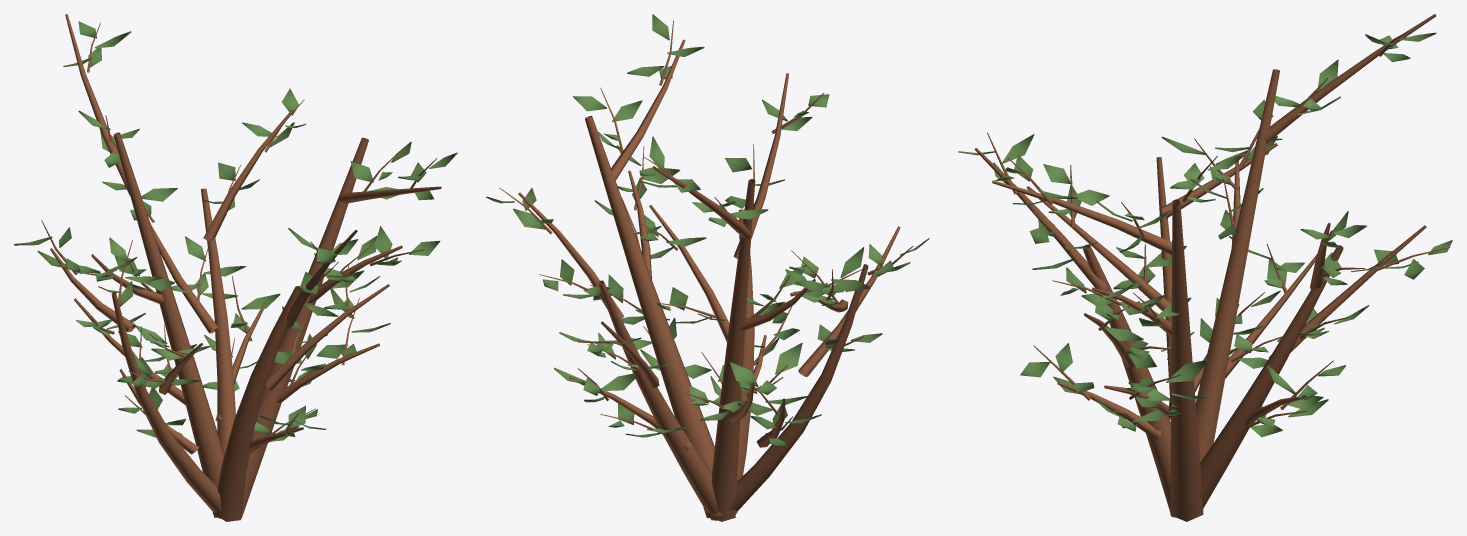
File: Arbousier_2_Low.fbx
The picture shows the model from 3 angles, left to right: view 1: azimuth 30°, elevation 25°; view 2: azimuth 150°, elevation 25°; view 3: azimuth 270°, elevation 25°; orthographic projection. The views are drawn at different scales.
Parts seen in each view (by area): view 1: Arbousier_2_Low; view 2: Arbousier_2_Low; view 3: Arbousier_2_Low.
Part boxes in pixels (box(x1,y1,x2,y2)): Arbousier_2_Low: box(14, 14, 457, 521); Arbousier_2_Low: box(486, 14, 929, 521); Arbousier_2_Low: box(958, 14, 1452, 521).
Bounding box in the file's own units: 202 × 244 × 230.
